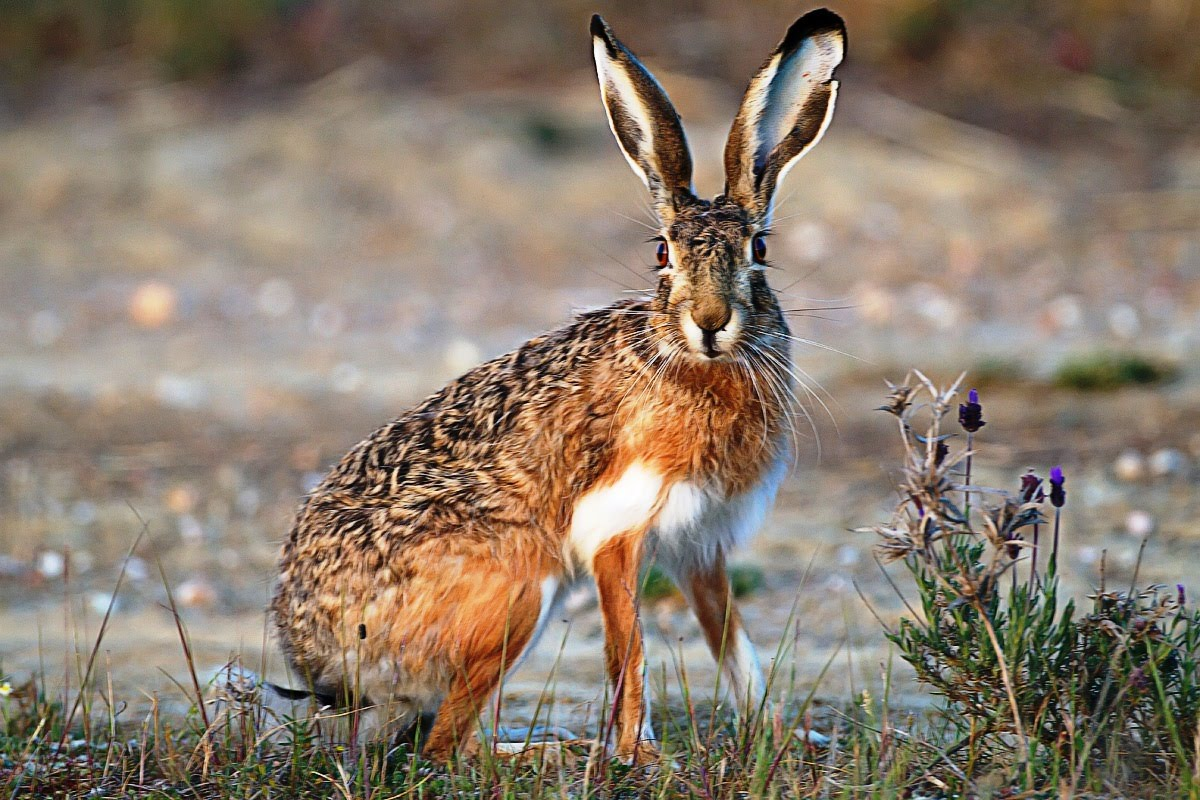bunny: (247, 7, 882, 777)
